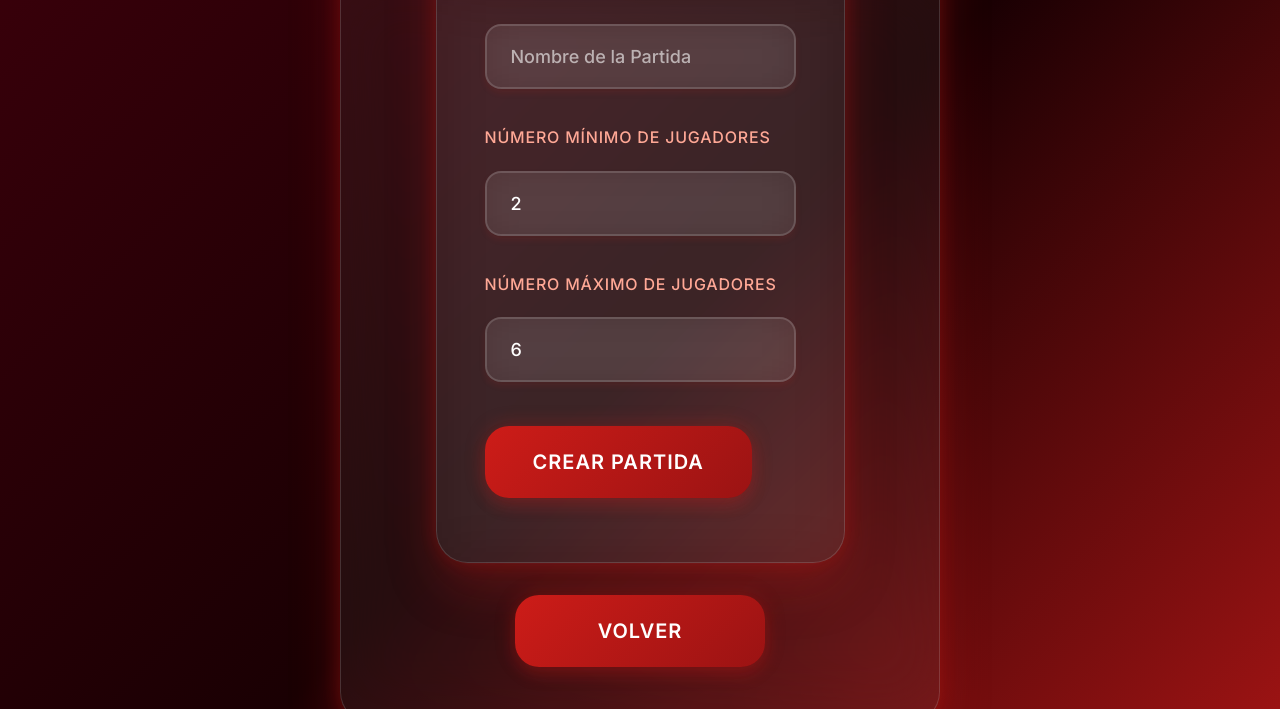
CrearPartidaContainer - Validation Tests › Range Validation Tests (Requirements 1.3, 1.4) › should show error when maximum players is greater than 6
(page scrolled)
Clear the 2nd number field with placeholder "Máximo de Jugadores" at (640, 350), box left=484, top=317, right=796, bottom=382
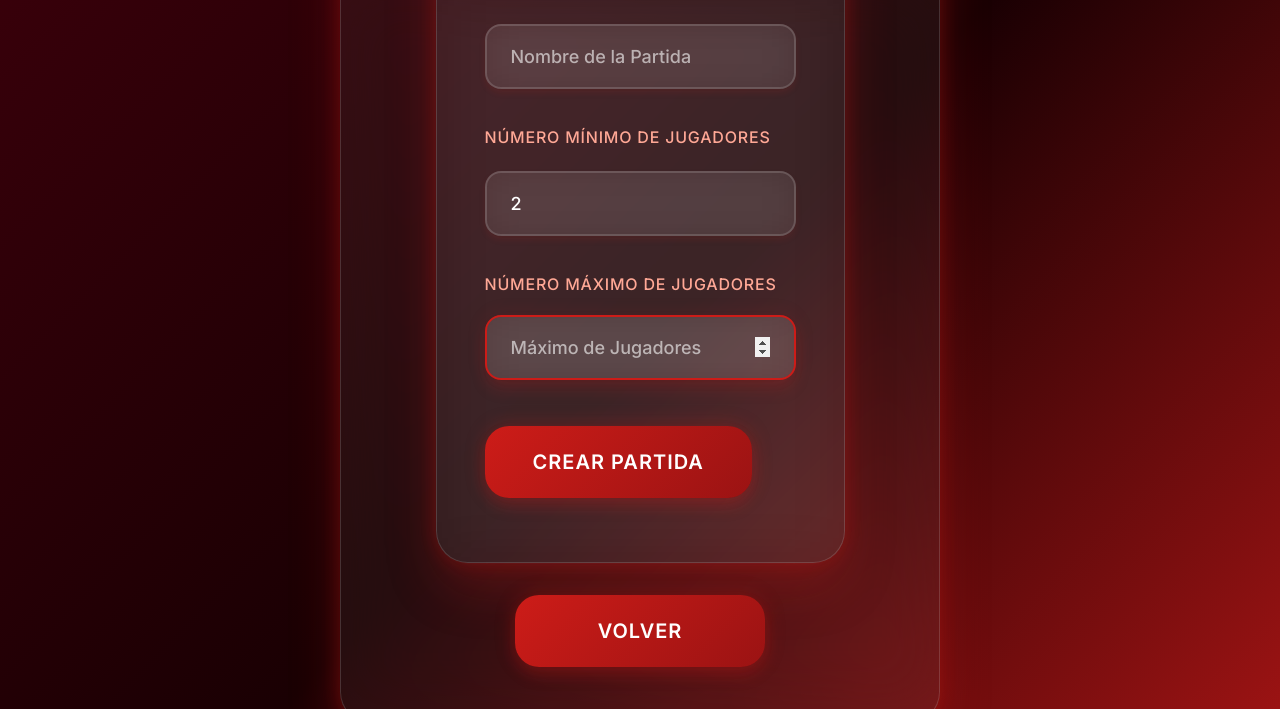
Type "7" into the number field with placeholder "Máximo de Jugadores" at (640, 348), box left=484, top=315, right=796, bottom=380
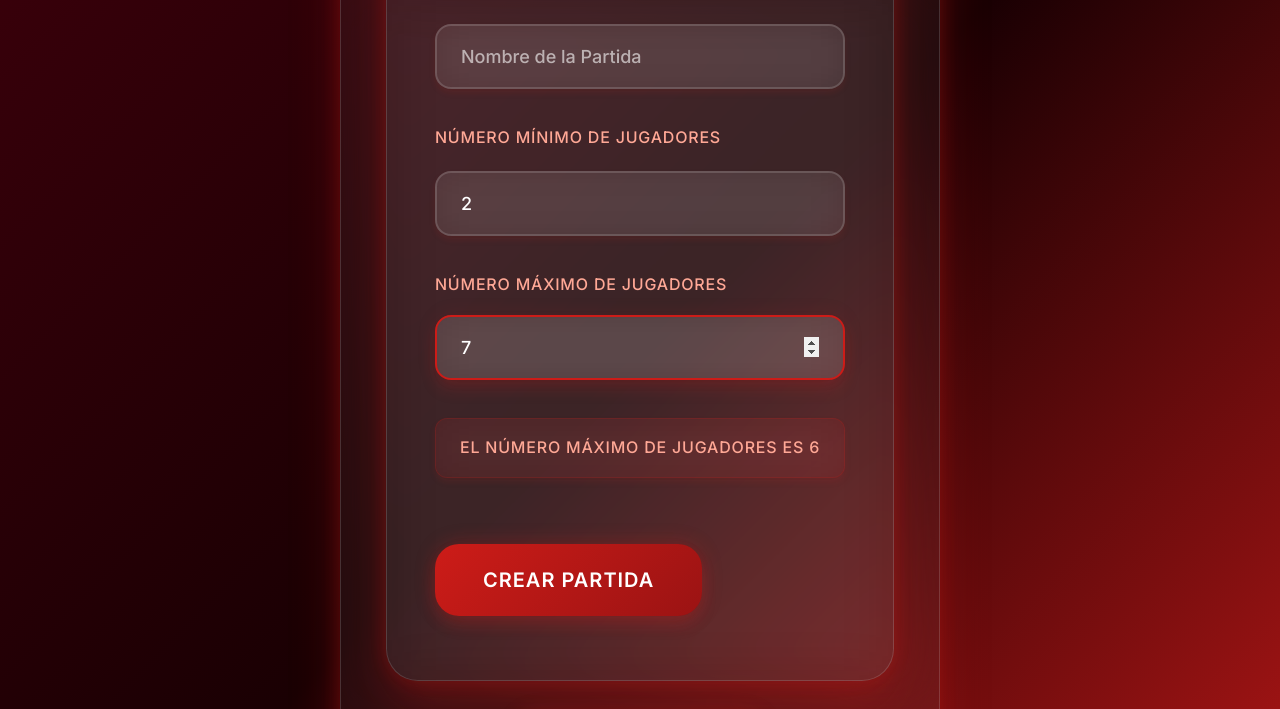
Now the text "El número máximo de jugadores es 6" is shown, box left=435, top=418, right=845, bottom=478
